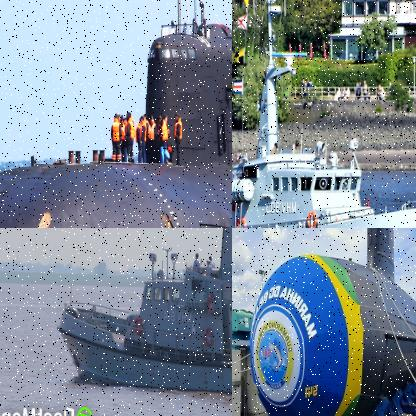Patrol Boat: (232, 0, 415, 227), (56, 228, 231, 399)
Submarine: (0, 0, 231, 227), (249, 228, 415, 415)
